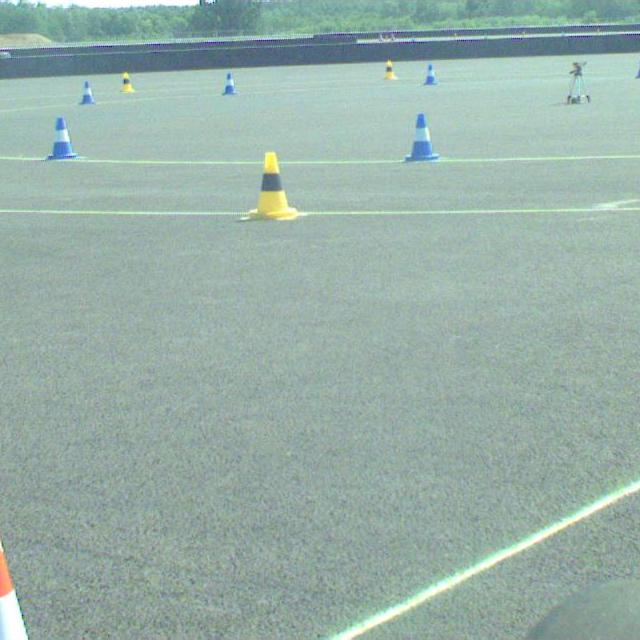Safety Cone: (242, 152, 302, 221), (0, 516, 33, 638), (404, 114, 440, 162), (47, 118, 79, 159), (423, 65, 438, 85), (223, 73, 237, 94), (80, 82, 94, 103), (383, 60, 397, 79), (121, 72, 134, 91), (636, 57, 640, 77)
